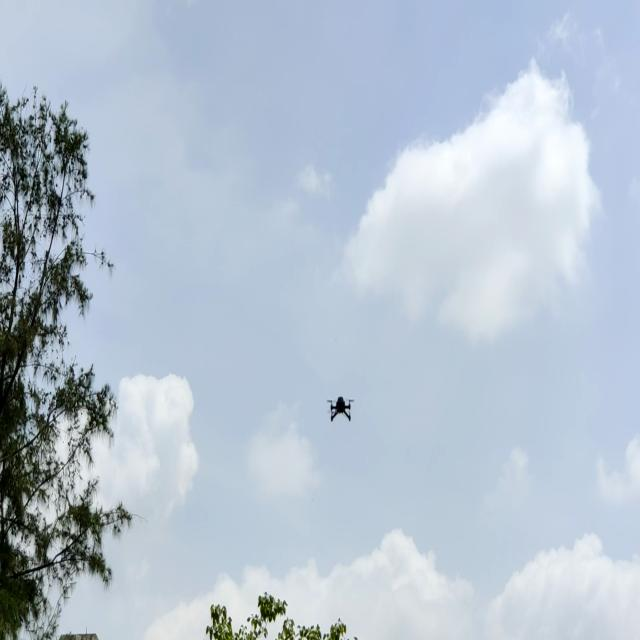drone: (323, 392, 360, 424)
